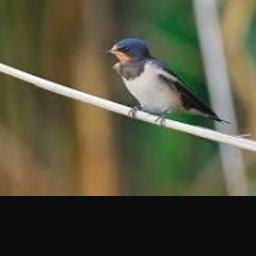Swallow: (102, 38, 230, 126)
